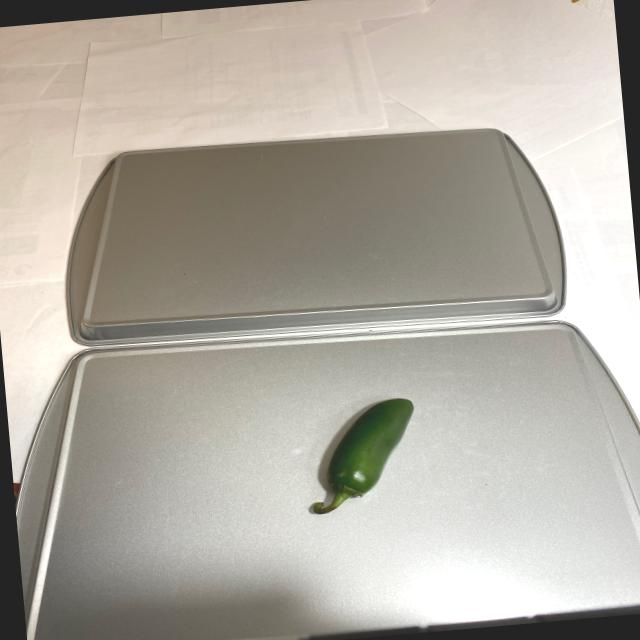chilli: (294, 395, 429, 526)
